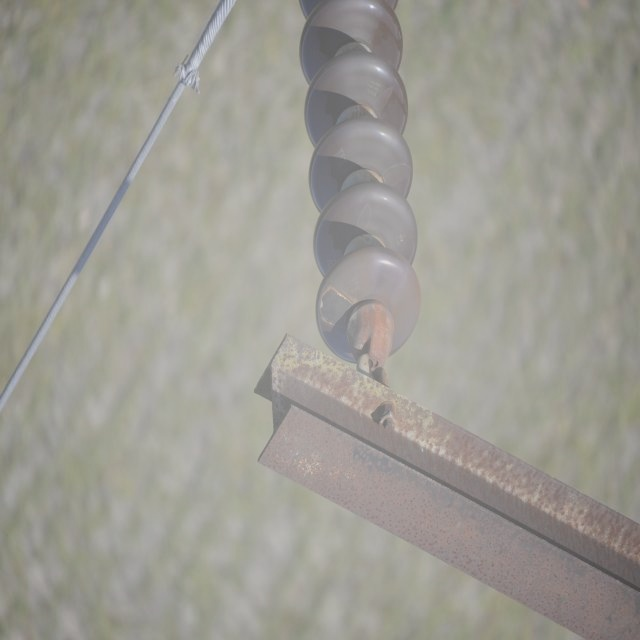insulator: (301, 0, 421, 363)
